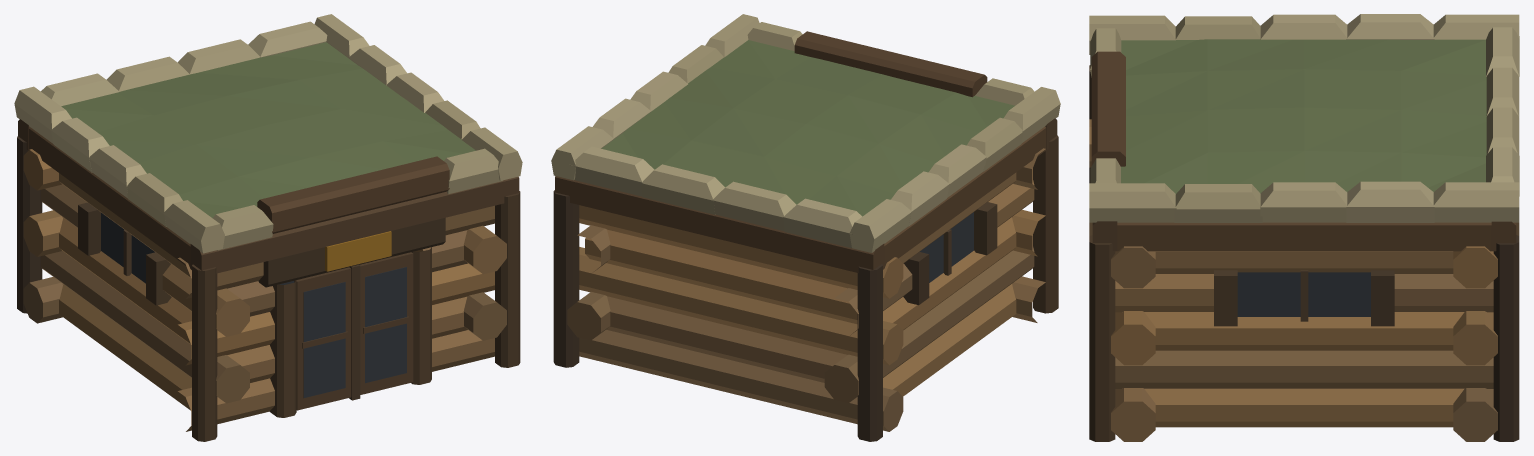
File: dugout.glb
The picture shows the model from 3 angles, left to right: view 1: azimuth 30°, elevation 25°; view 2: azimuth 150°, elevation 25°; view 3: azimuth 270°, elevation 25°; orthographic projection. The views are drawn at different scales.
Visible parts, largest first — view 1: shelter; view 2: shelter; view 3: shelter.
Boxes of the visible parts, x1,y1,x2,y2 form: shelter: (14, 14, 522, 441); shelter: (551, 14, 1060, 441); shelter: (1089, 14, 1519, 441).
Bounding box in the file's own units: 4 × 2.56 × 4.
